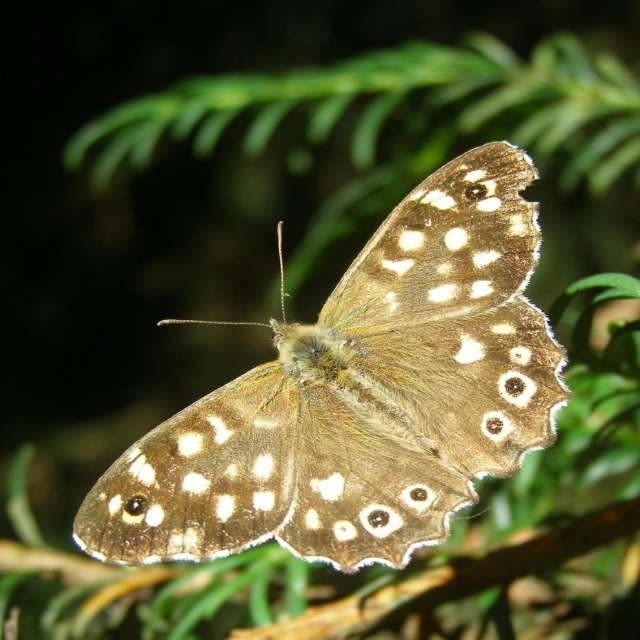Butterfly: (71, 137, 591, 585)
